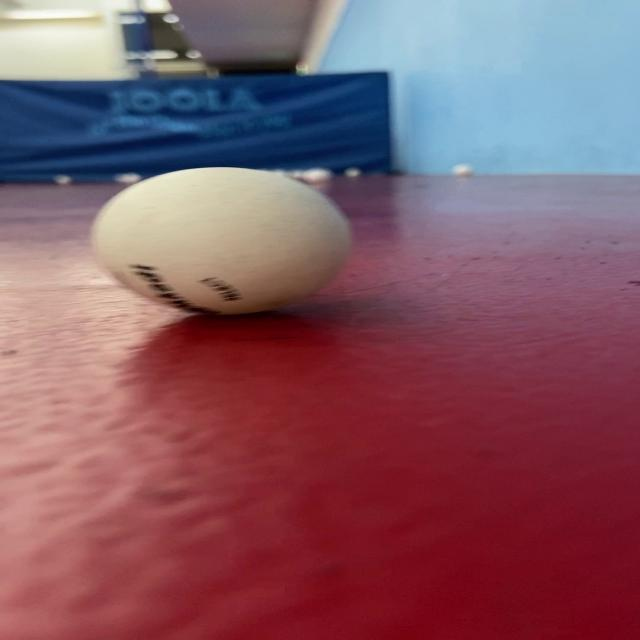ping-pong-ball: (64, 154, 382, 336)
